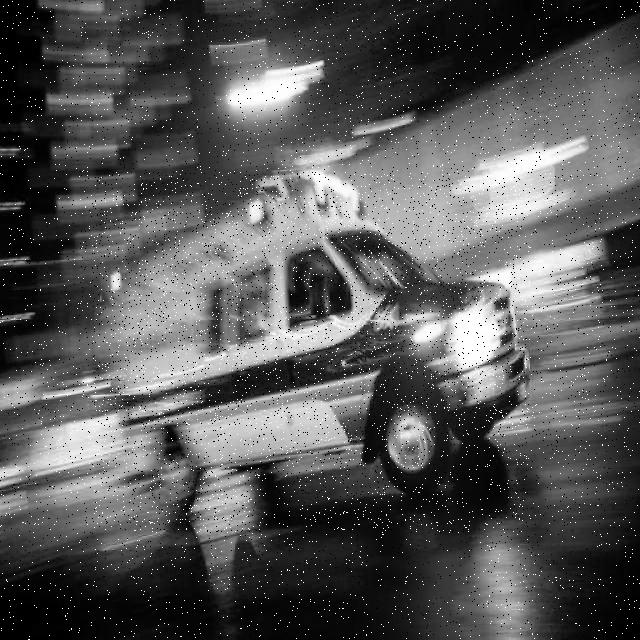Ambulance: (93, 172, 528, 532)
